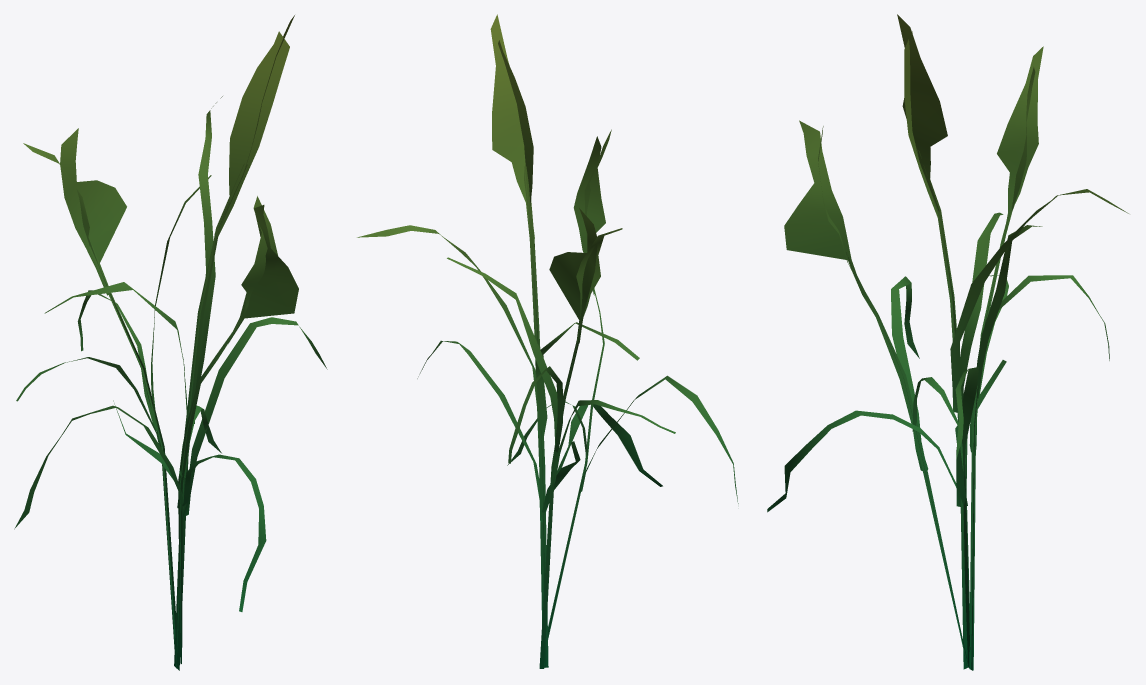
File: grass_medium_01_9.glb
3 renders of one model, left to right at view 1: azimuth 30°, elevation 25°; view 2: azimuth 150°, elevation 25°; view 3: azimuth 270°, elevation 25°, orthographic. The views are drawn at different scales.
Visible parts, largest first — view 1: grass_medium_01_tall_b_LOD0; view 2: grass_medium_01_tall_b_LOD0; view 3: grass_medium_01_tall_b_LOD0.
Part boxes in pixels (x1=…): grass_medium_01_tall_b_LOD0: x1=14, y1=15, x2=327, y2=670; grass_medium_01_tall_b_LOD0: x1=357, y1=14, x2=738, y2=668; grass_medium_01_tall_b_LOD0: x1=767, y1=14, x2=1128, y2=670.
Size of the model in its own units: 0.1499 by 0.2857 by 0.1348.
